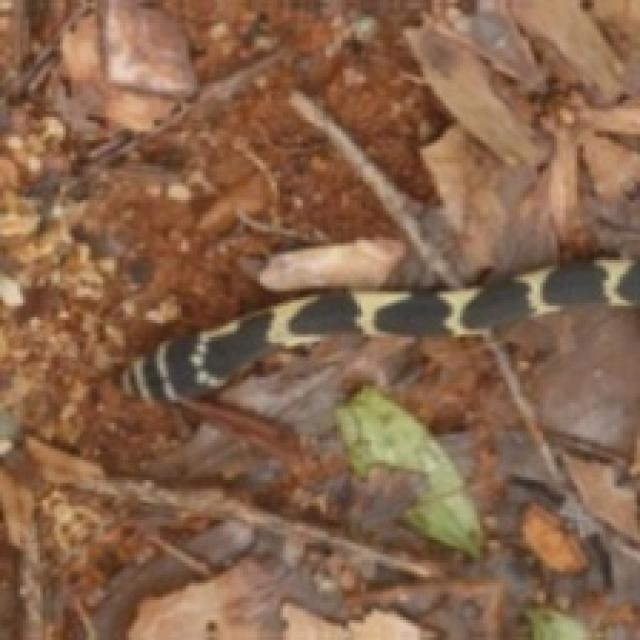king cobra: (123, 257, 637, 400)
